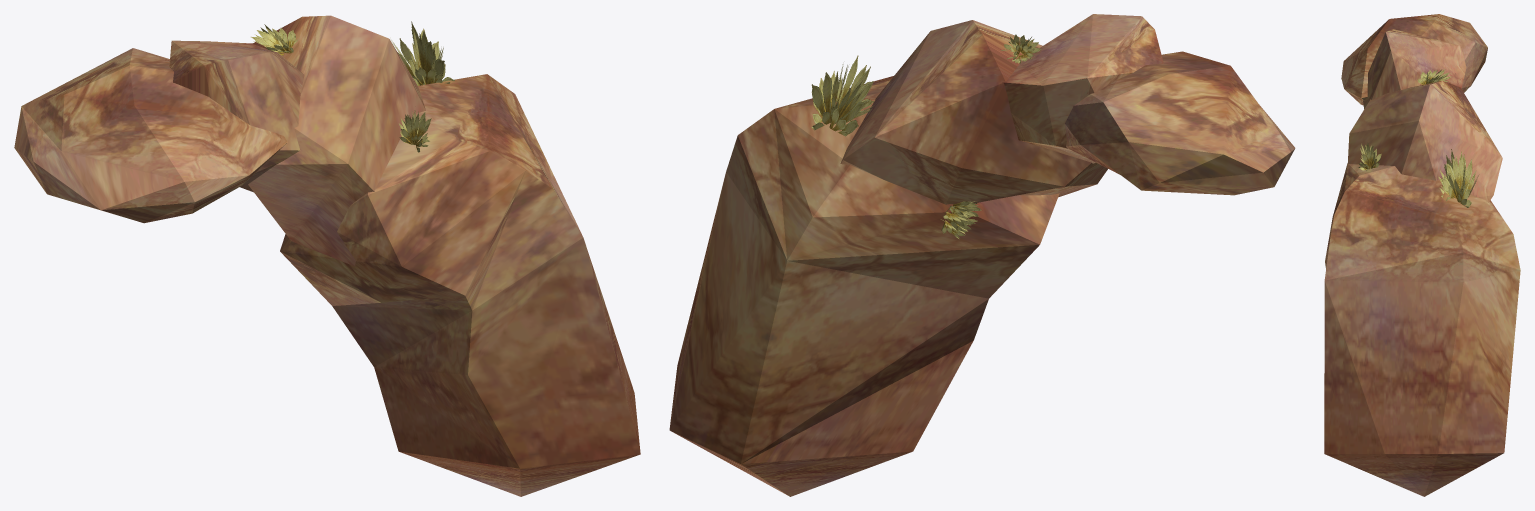
The model's file is C2SNROCKFEAT3H.obj.
The picture shows the model from 3 angles, left to right: view 1: azimuth 30°, elevation 25°; view 2: azimuth 150°, elevation 25°; view 3: azimuth 270°, elevation 25°; orthographic projection. The views are drawn at different scales.
Visible parts, largest first — view 1: Node 0; view 2: Node 0; view 3: Node 0.
Boxes of the visible parts, x1,y1,x2,y2 form: Node 0: (14, 15, 640, 496); Node 0: (669, 14, 1295, 496); Node 0: (1324, 14, 1520, 496).
Bounding box in the file's own units: 34.96 × 30.1 × 14.88.
1 material, 1 textured.
